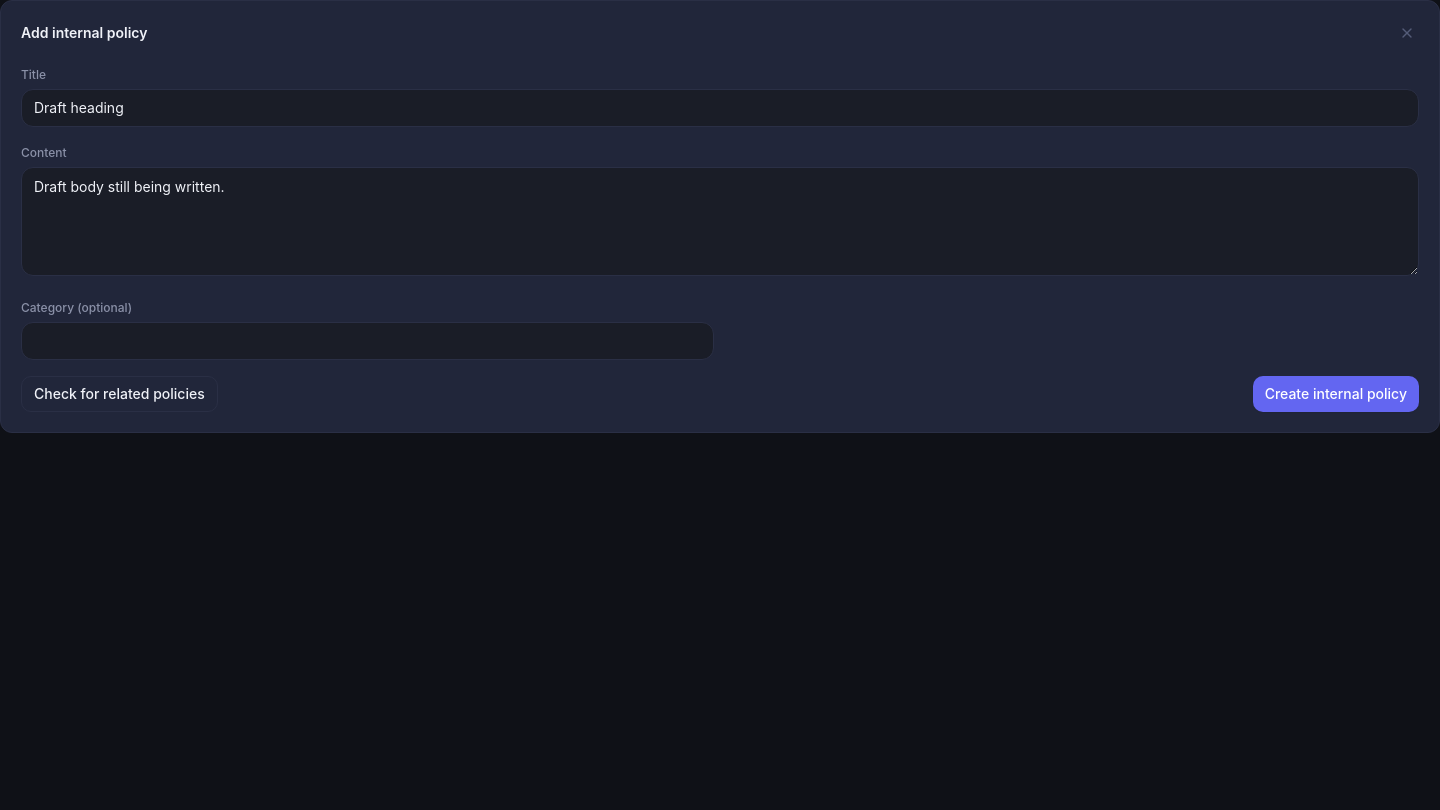
Test: AddPolicyPanel — HighlightText branch (site-specific) › keeps pre-wrap on the parent when a highlighted snippet SPANS a newline
Click the button "Check for related policies" at (119, 394), box x1=21 y1=376 x2=218 y2=412
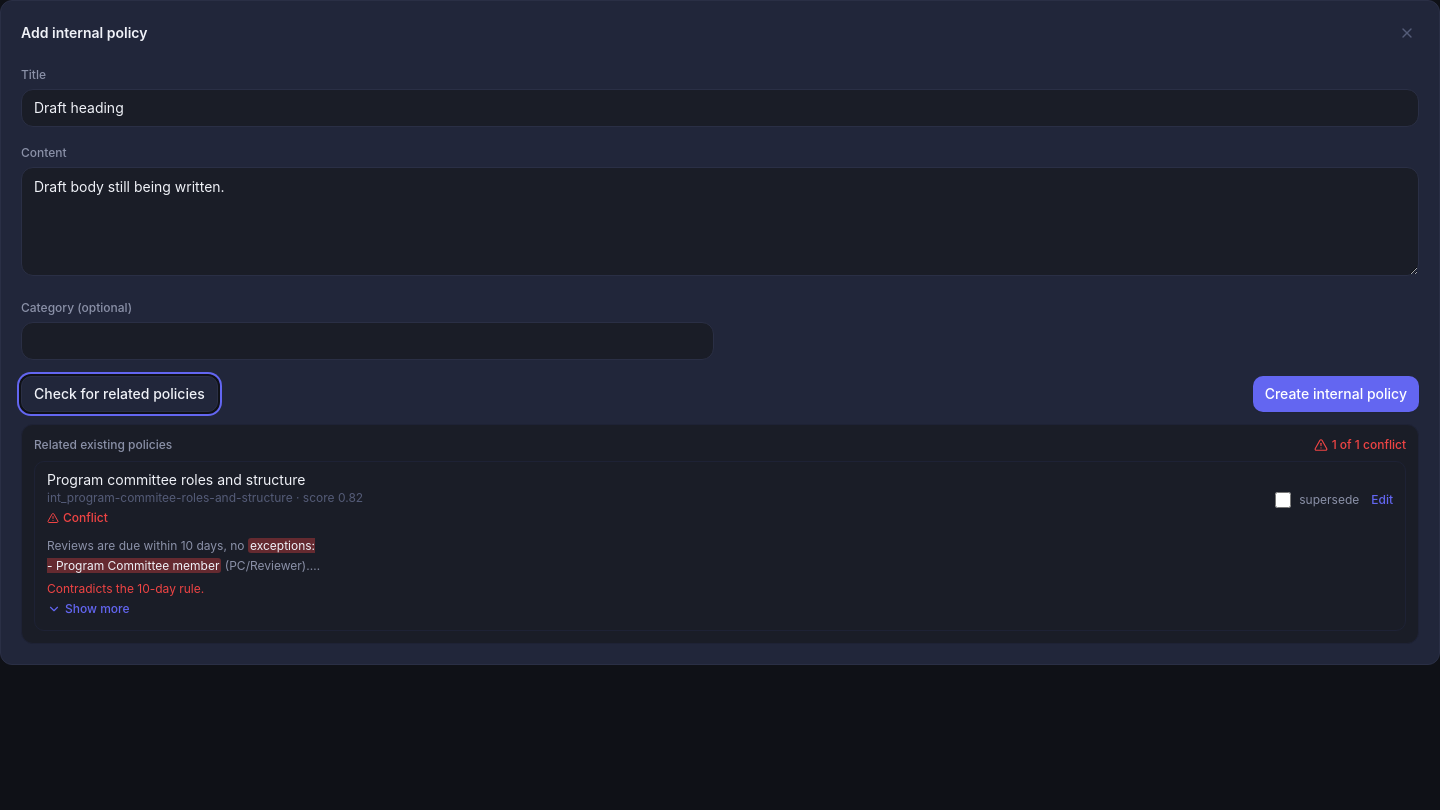
expect the text "Related existing policies" is shown: met, box x1=34 y1=437 x2=172 y2=453
expect the text "exceptions: - Program Committee member" is shown: met, box x1=47 y1=538 x2=315 y2=572
